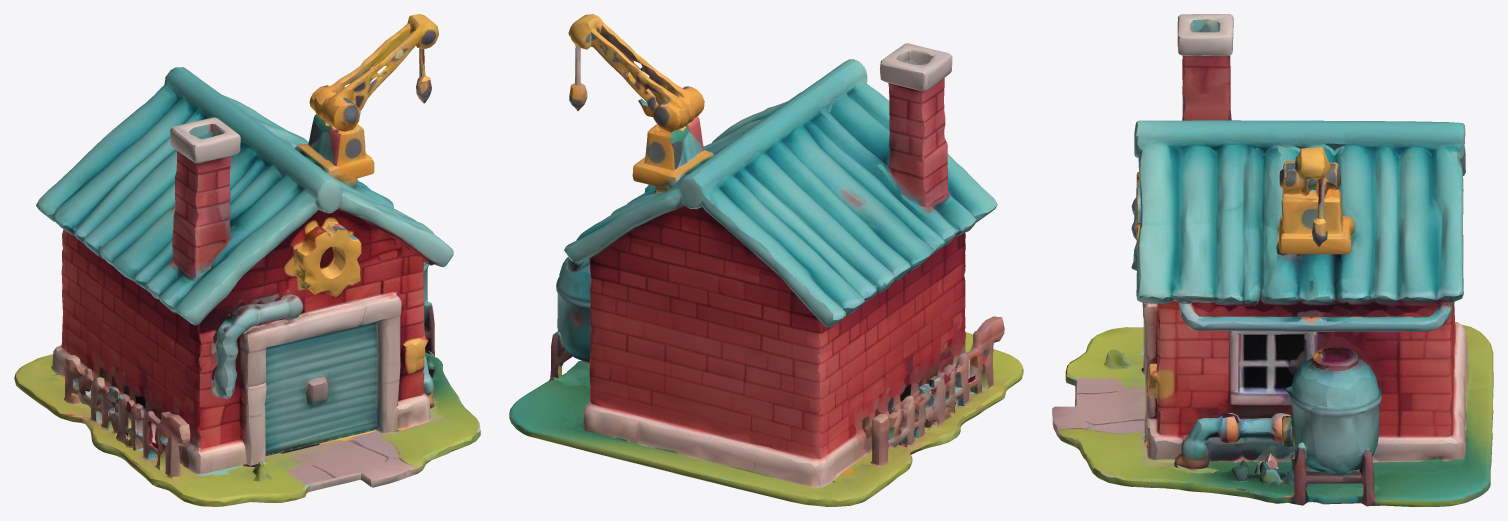
Rendered from workshop.glb.
3 views of the same model, side by side, from view 1: azimuth 30°, elevation 25°; view 2: azimuth 150°, elevation 25°; view 3: azimuth 270°, elevation 25° (orthographic). The views are drawn at different scales.
Visible parts, largest first — view 1: workshop_s15; view 2: workshop_s15; view 3: workshop_s15.
Part boxes in pixels (<box>): workshop_s15: <box>14,14,480,506</box>; workshop_s15: <box>509,14,1023,506</box>; workshop_s15: <box>1052,14,1493,506</box>.
Size of the model in its own units: 0.969 by 0.8844 by 1.
1 material, 1 textured.
